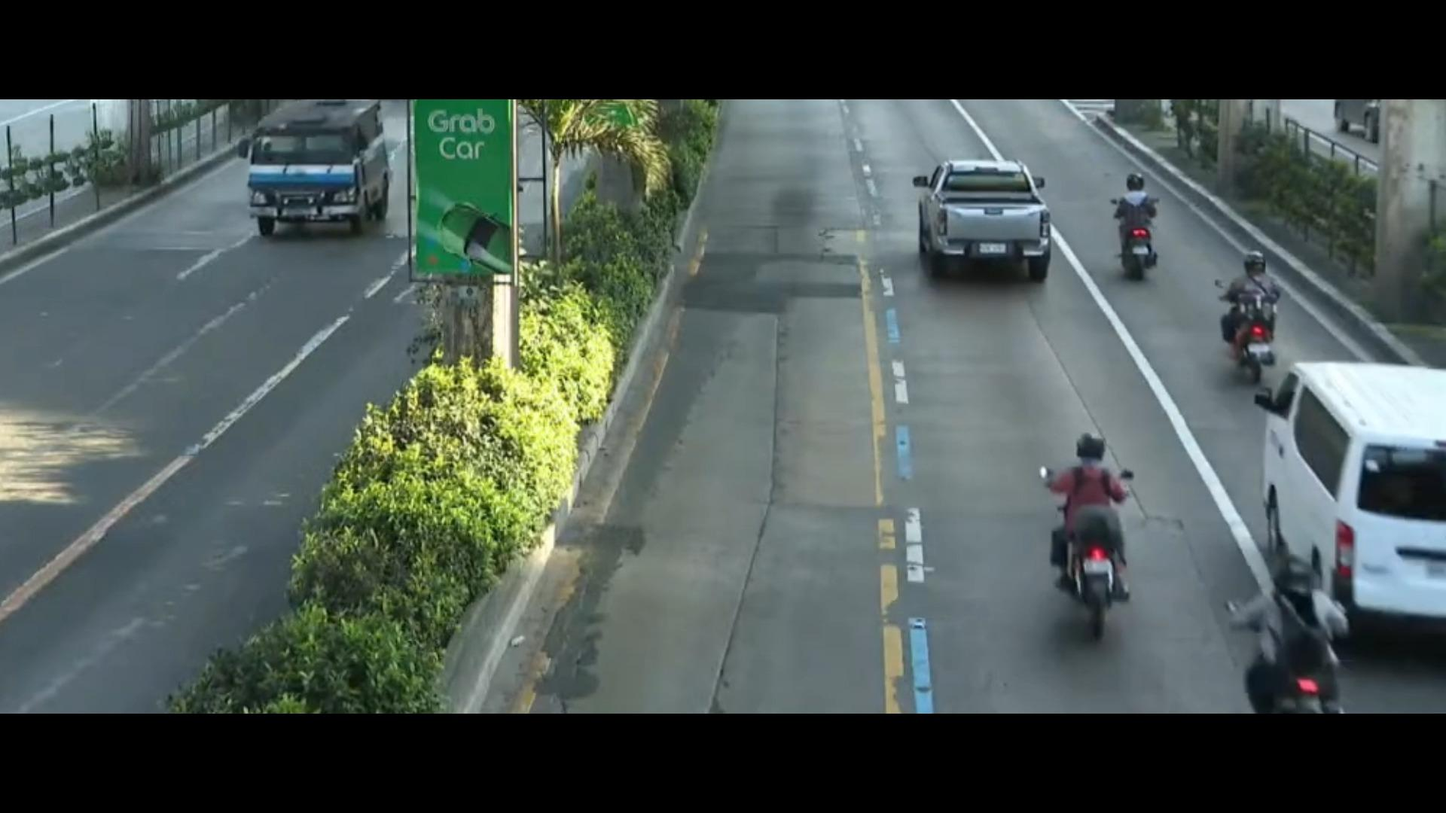Motorcycle: (995, 415, 1178, 663), (1214, 520, 1379, 709), (1198, 244, 1298, 392), (1094, 169, 1175, 302)
Pickup: (887, 131, 1072, 310)
Van: (1213, 364, 1446, 639), (226, 101, 400, 276)
